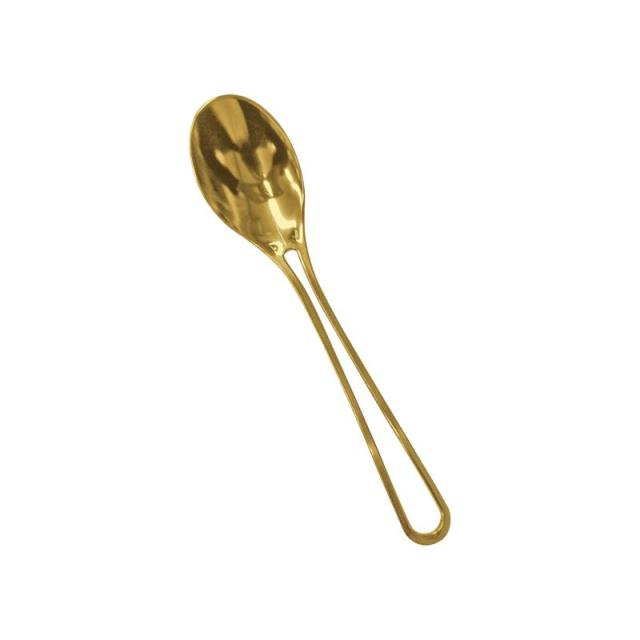spoon: (182, 72, 456, 557)
